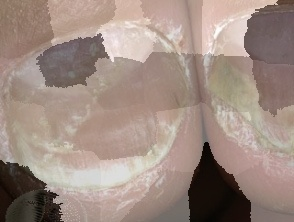Nail_psoriasis: (0, 0, 233, 222), (200, 2, 294, 187)
